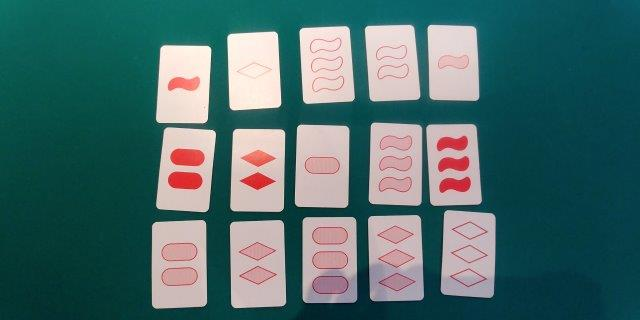1ED: (231, 37, 278, 106)
1FW: (162, 48, 206, 121)
1HP: (300, 128, 345, 205)
1HW: (433, 27, 474, 98)
2EW: (371, 27, 413, 96)
2FD: (235, 131, 281, 209)
2FP: (167, 132, 207, 208)
2HD: (233, 224, 282, 302)
2HP: (155, 225, 203, 304)
3ED: (446, 214, 491, 293)
3EW: (304, 29, 349, 99)
3FW: (431, 127, 475, 202)
3HD: (371, 219, 420, 299)
3HP: (305, 220, 354, 301)
3HW: (373, 126, 420, 203)
